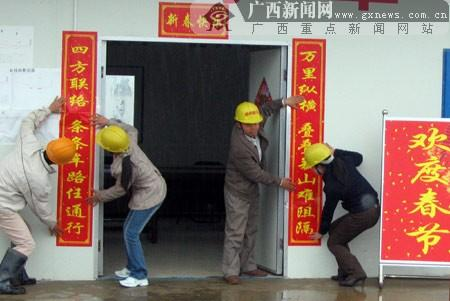helmet: (96, 126, 132, 154), (46, 137, 78, 168), (305, 144, 333, 169), (234, 101, 264, 124)
